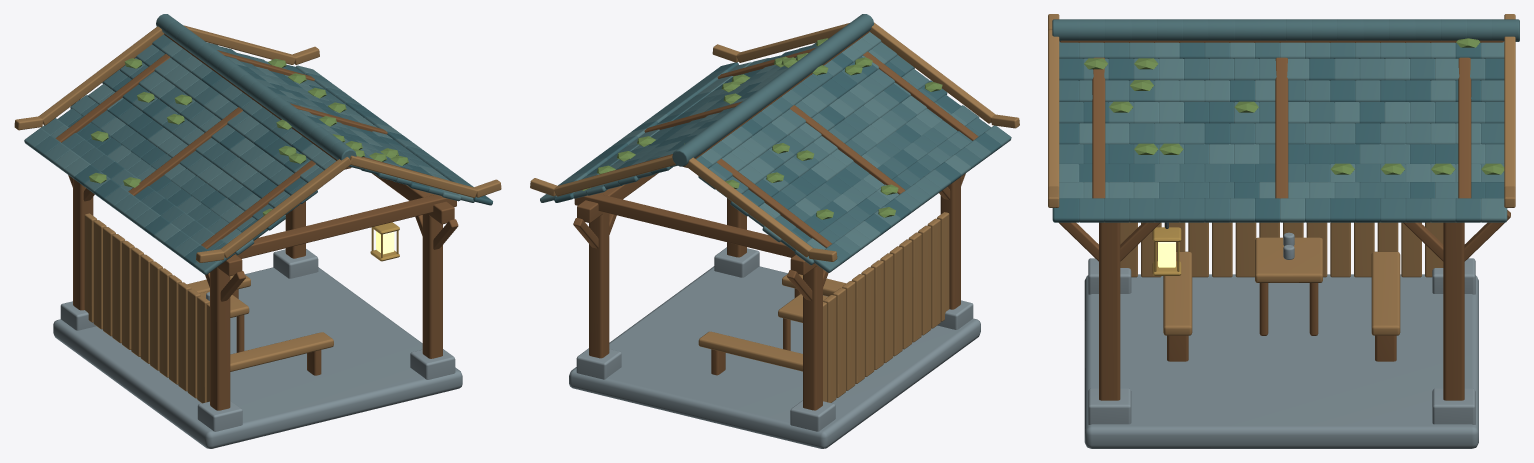
Rendered from SM_RestStop.fbx.
The picture shows the model from 3 angles, left to right: view 1: azimuth 30°, elevation 25°; view 2: azimuth 150°, elevation 25°; view 3: azimuth 270°, elevation 25°; orthographic projection. The views are drawn at different scales.
Visible parts, largest first — view 1: Pavilion foundation, Gable tie, Cedar post.001, Cedar post, Carved gable edge, Bench seat, Carved gable edge.002, Cedar post.002, Carved gable edge.001, Rear wall board.009, Rafter L, Rafter L.002 (+21 smaller); view 2: Pavilion foundation, Gable tie.002, Cedar post.003, Cedar post.002, Bench seat.001, Carved gable edge.002, Carved gable edge, Cedar post, Carved gable edge.003, Rear wall board.004, Rear wall board.002, Carved gable edge.001 (+22 smaller); view 3: Pavilion foundation, Cedar post.003, Cedar post.001, Tea table, Bench seat.001, Bench seat, Rafter R.002, Rafter R.001, Carved gable edge.001, Rafter R, Carved gable edge.003, Stone post foot.003 (+129 smaller).
Part boxes in pixels (bbox=[...]): Pavilion foundation: bbox=[53, 267, 462, 448]; Gable tie: bbox=[235, 194, 456, 258]; Cedar post.001: bbox=[422, 213, 442, 358]; Cedar post: bbox=[210, 267, 230, 410]; Carved gable edge: bbox=[220, 157, 350, 258]; Bench seat: bbox=[230, 332, 333, 371]; Carved gable edge.002: bbox=[39, 26, 163, 125]; Cedar post.002: bbox=[73, 178, 93, 310]; Carved gable edge.001: bbox=[349, 155, 477, 197]; Rear wall board.009: bbox=[121, 240, 134, 349]; Rafter L: bbox=[201, 160, 315, 248]; Rafter L.002: bbox=[55, 54, 170, 142]; Pavilion foundation: bbox=[569, 266, 980, 448]; Gable tie.002: bbox=[574, 193, 814, 263]; Cedar post.003: bbox=[589, 212, 609, 358]; Cedar post.002: bbox=[803, 265, 822, 410]; Bench seat.001: bbox=[698, 331, 802, 371]; Carved gable edge.002: bbox=[685, 157, 812, 257]; Carved gable edge: bbox=[869, 22, 995, 123]; Cedar post: bbox=[940, 177, 960, 309]; Carved gable edge.003: bbox=[554, 155, 675, 196]; Rear wall board.004: bbox=[899, 239, 912, 349]; Rear wall board.002: bbox=[918, 225, 931, 335]; Carved gable edge.001: bbox=[736, 23, 849, 62]; Pavilion foundation: bbox=[1084, 274, 1478, 448]; Cedar post.003: bbox=[1443, 222, 1464, 400]; Cedar post.001: bbox=[1099, 222, 1120, 400]; Tea table: bbox=[1255, 237, 1322, 282]; Bench seat.001: bbox=[1371, 251, 1400, 335]; Bench seat: bbox=[1163, 251, 1192, 335]; Rafter R.002: bbox=[1458, 57, 1471, 198]; Rafter R.001: bbox=[1275, 57, 1288, 198]; Carved gable edge.001: bbox=[1048, 29, 1059, 187]; Rafter R: bbox=[1092, 57, 1105, 198]; Carved gable edge.003: bbox=[1504, 36, 1515, 187]; Stone post foot.003: bbox=[1432, 388, 1475, 424].
Size of what is drawn, in the model's own units: 611 by 543 by 658.
